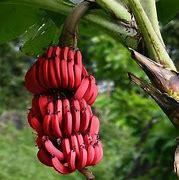banana: (21, 46, 110, 173), (19, 44, 99, 96), (19, 91, 100, 137), (42, 131, 105, 173)
